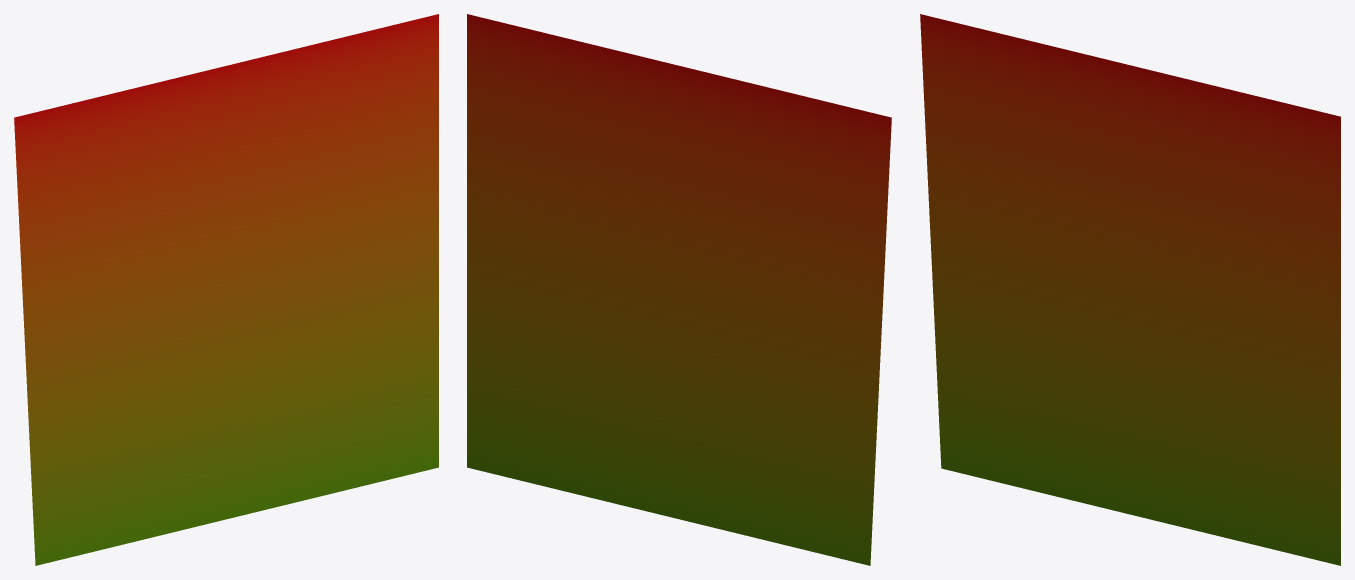
File: Var2_LOD3.fbx
3 renders of one model, left to right at view 1: azimuth 30°, elevation 25°; view 2: azimuth 150°, elevation 25°; view 3: azimuth 330°, elevation 25°, orthographic.
Parts seen in each view (by area): view 1: _5af7_Var2_LOD3; view 2: _5af7_Var2_LOD3; view 3: _5af7_Var2_LOD3.
Boxes of the visible parts, <box> form: _5af7_Var2_LOD3: <box>14,14,438,565</box>; _5af7_Var2_LOD3: <box>467,14,891,565</box>; _5af7_Var2_LOD3: <box>920,14,1340,565</box>.
Size of the model in its own units: 56.3 by 57.45 by 1.2e-05.
